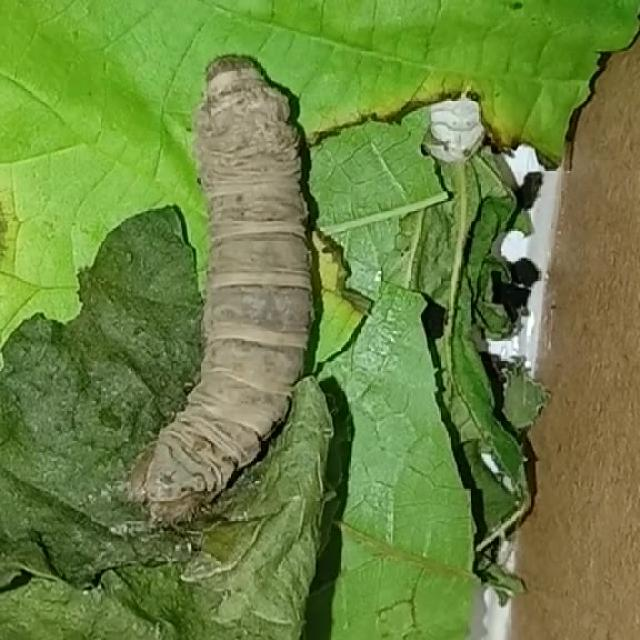Grasserie: (120, 38, 333, 521)
